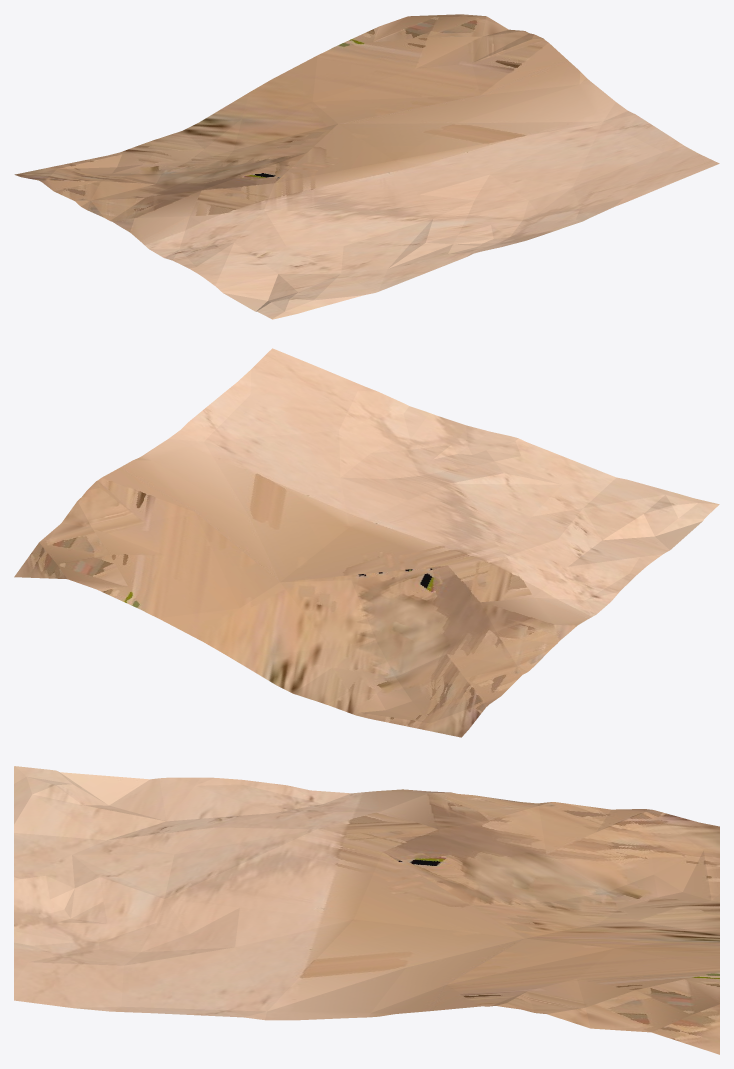
3 renders of one model, top to bottom at view 1: azimuth 30°, elevation 25°; view 2: azimuth 150°, elevation 25°; view 3: azimuth 270°, elevation 25°, orthographic. The views are drawn at different scales.
Size of the model in its own units: 1.04 by 0.2127 by 1.04.
Materials: 3 (3 with a texture image).
